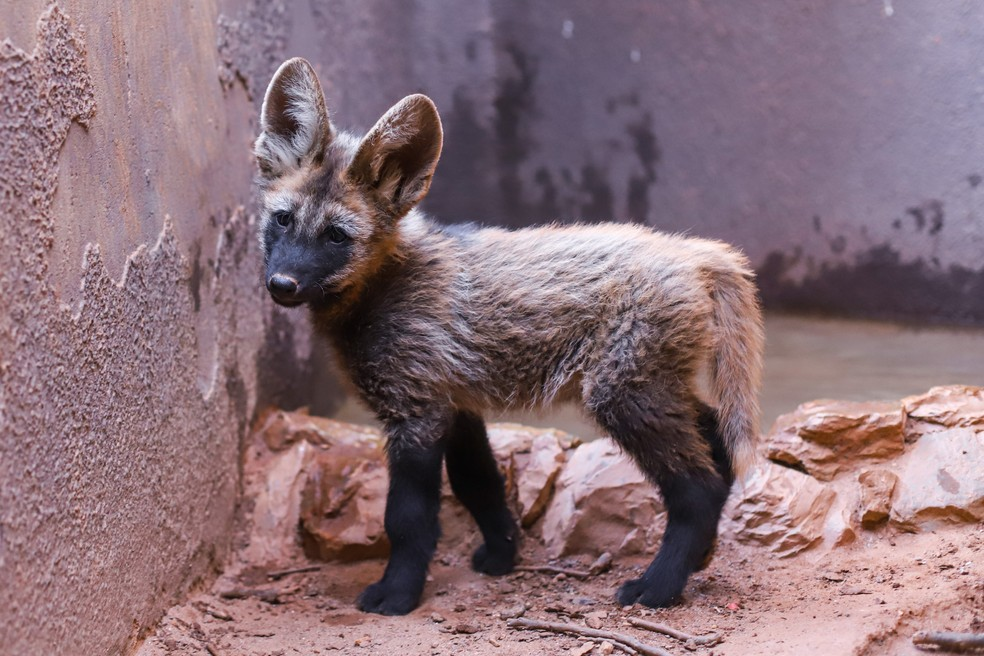LoboGuara: (249, 50, 781, 624)
